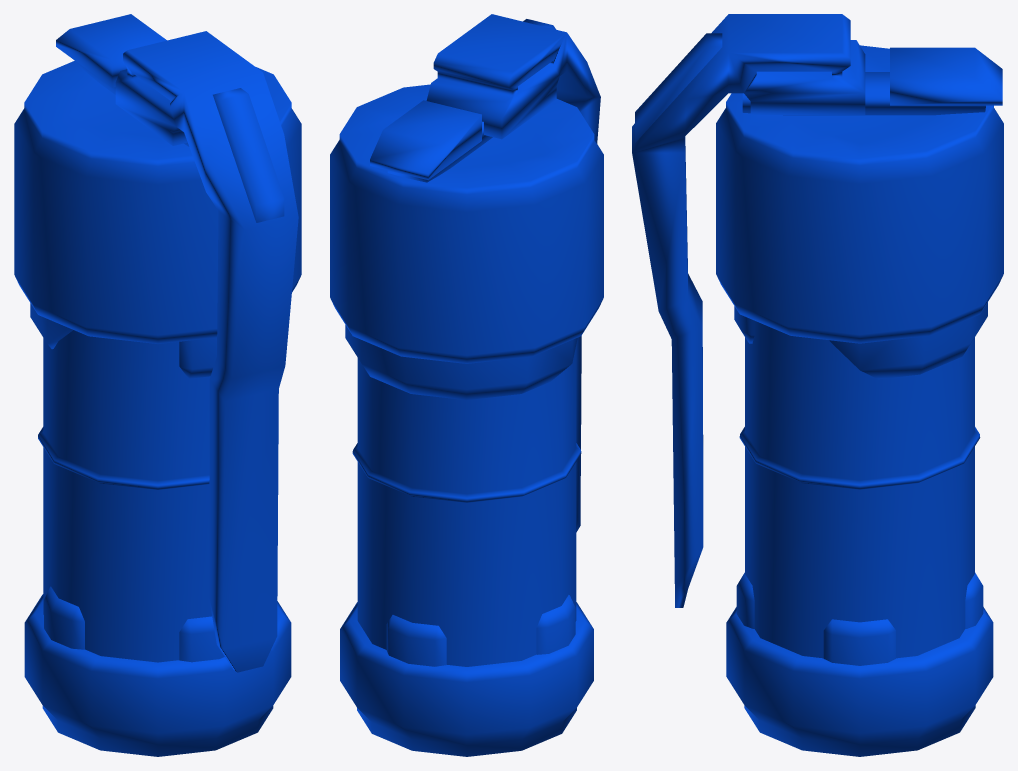
File: ModernNade.fbx
The picture shows the model from 3 angles, left to right: view 1: azimuth 30°, elevation 25°; view 2: azimuth 150°, elevation 25°; view 3: azimuth 270°, elevation 25°; orthographic projection. The views are drawn at different scales.
Visible parts, largest first — view 1: polySurface12; view 2: polySurface12; view 3: polySurface12.
Part boxes in pixels (x1,y1,x2,y2): polySurface12: [14, 14, 301, 756]; polySurface12: [330, 14, 603, 756]; polySurface12: [632, 14, 1003, 756].
Size of the model in its own units: 1.61 by 4.21 by 2.08.
